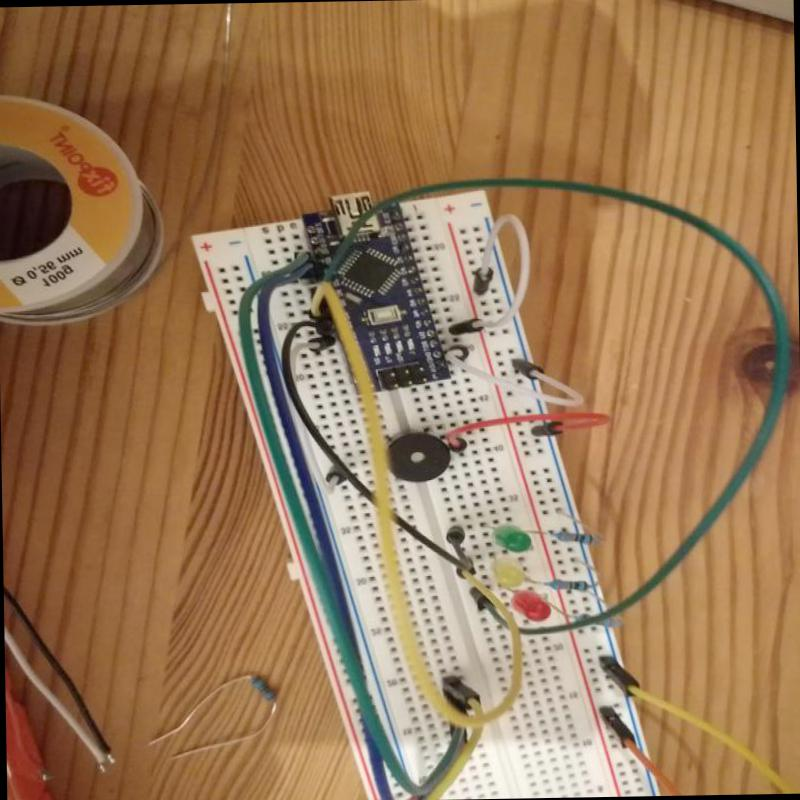Arduino_Nano: (302, 183, 457, 404)
